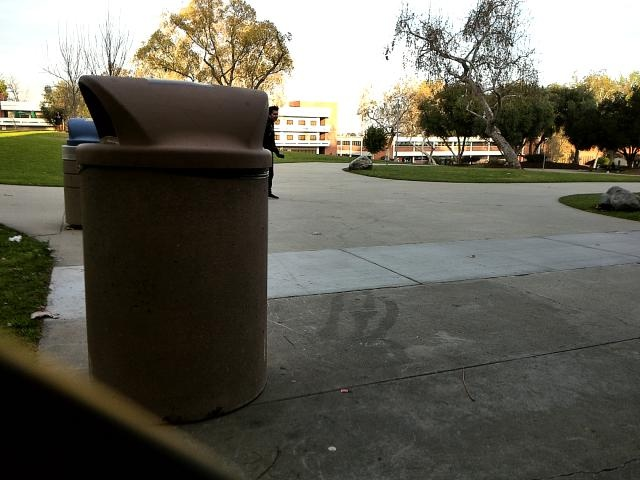trashcan: (78, 66, 278, 436), (60, 108, 120, 234)
